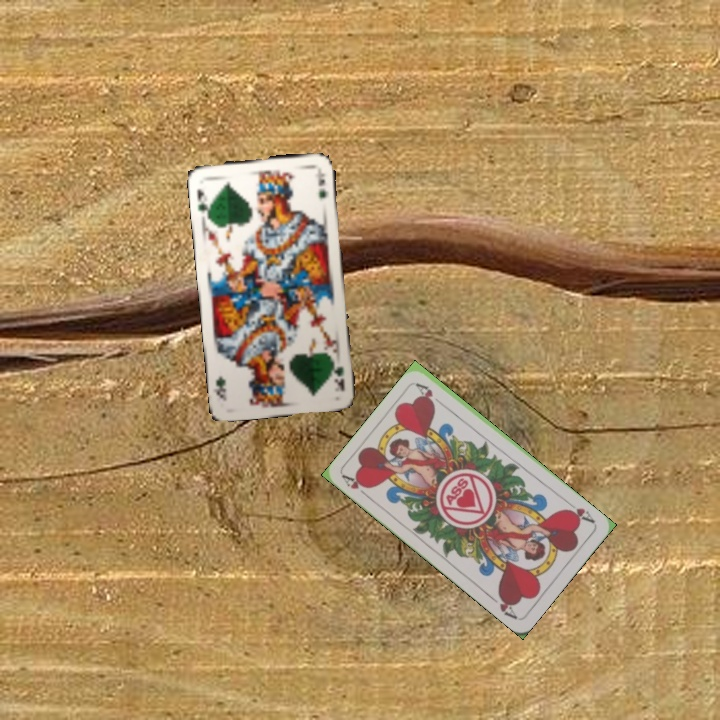GK: (329, 354, 347, 393), (193, 186, 213, 218)
HA: (339, 471, 373, 502), (562, 497, 597, 526)
